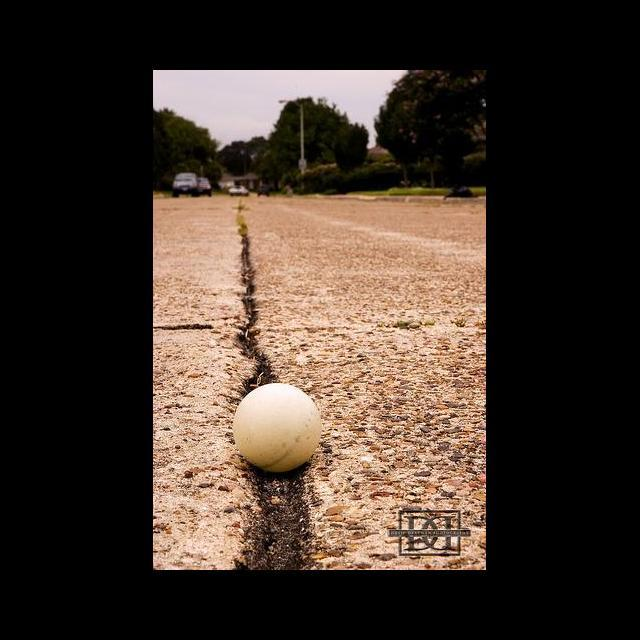ping-pong-ball: (232, 383, 322, 471)
